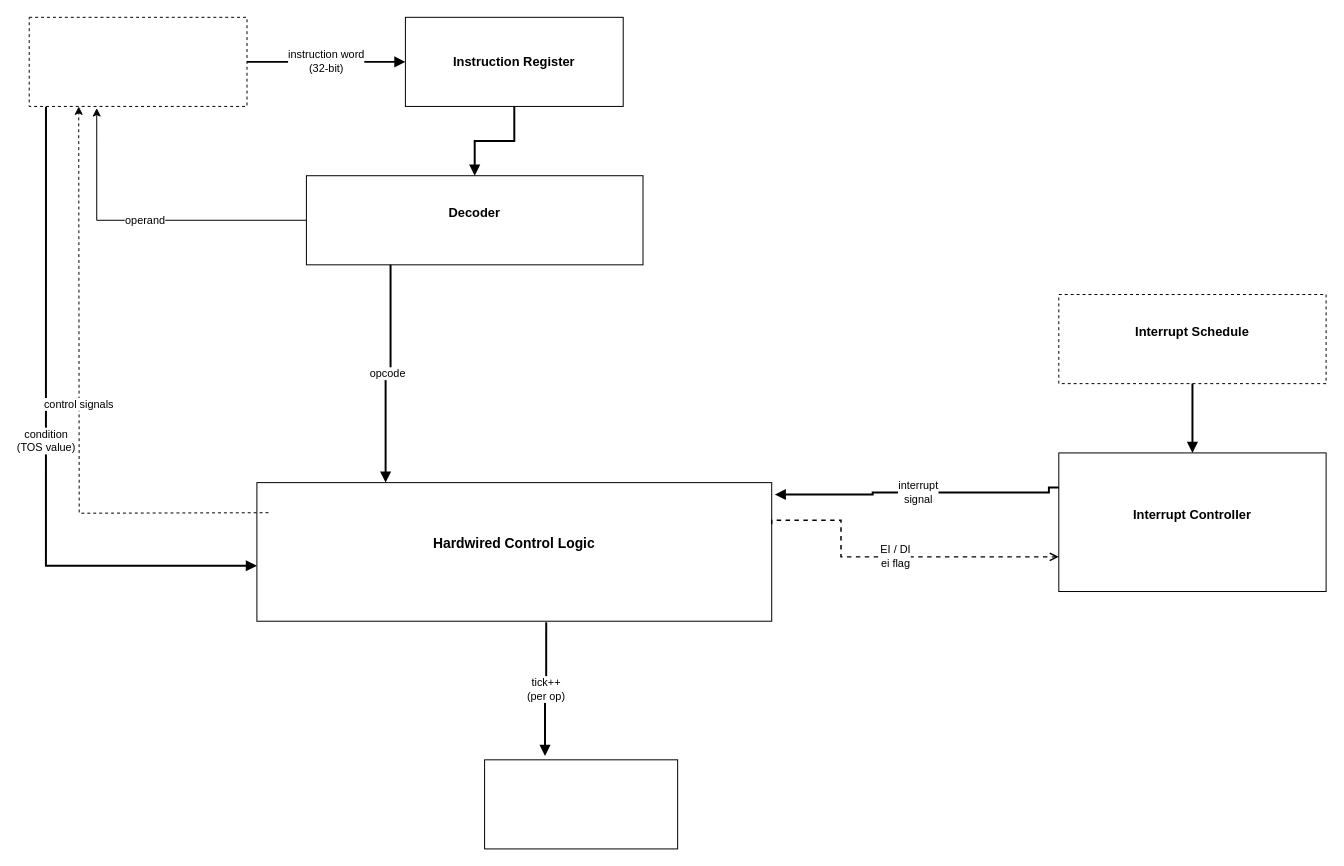
Image size: 1344x866. Some labels were removed from this diagram. The shapes that lost their labels are listed below. From the top down, each one's centre as x and y in pixels, then its label:
(137,61): DataPath
(581,804): Tick Counter (global, incremented per operation)
